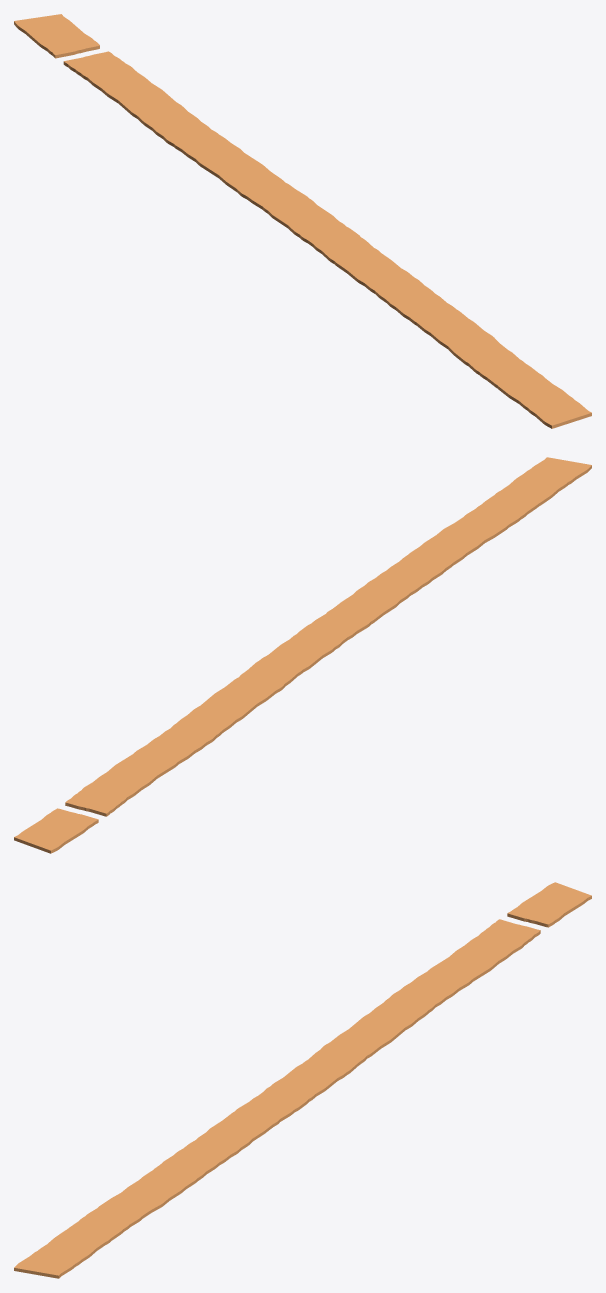
The model's file is coastline.glb.
The picture shows the model from 3 angles, top to bottom: view 1: azimuth 30°, elevation 25°; view 2: azimuth 150°, elevation 25°; view 3: azimuth 330°, elevation 25°; orthographic projection. The views are drawn at different scales.
Parts seen in each view (by area): view 1: world; view 2: world; view 3: world.
Boxes of the visible parts, box(x1,y1,x2,y2) form: world: box(14, 14, 591, 428); world: box(14, 457, 591, 853); world: box(14, 882, 591, 1278).
Bounding box in the file's own units: 17.71 × 1 × 305.
